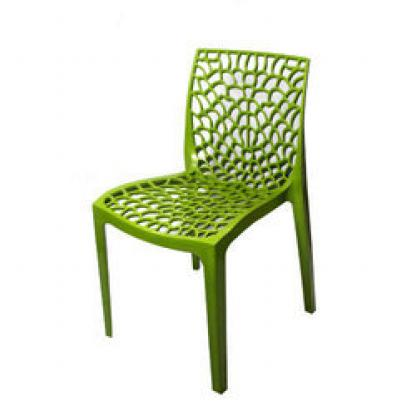chair: (94, 47, 328, 399)
